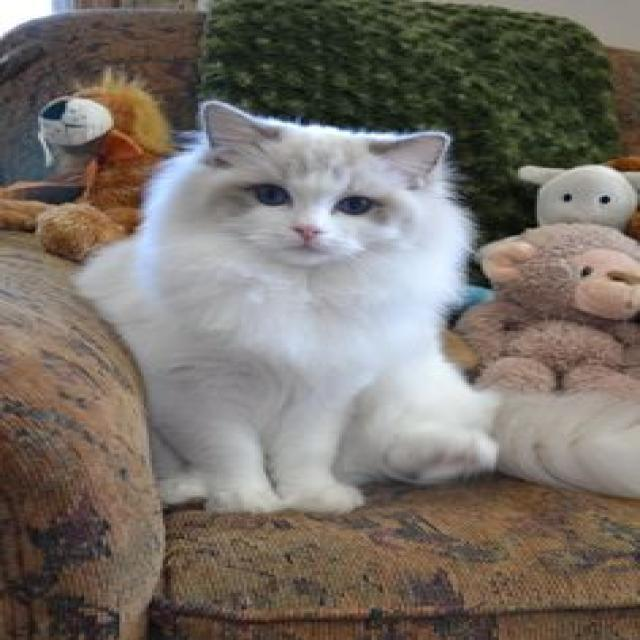da khoe manh: (178, 269, 438, 458)
